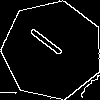I: (27, 25, 73, 64)
